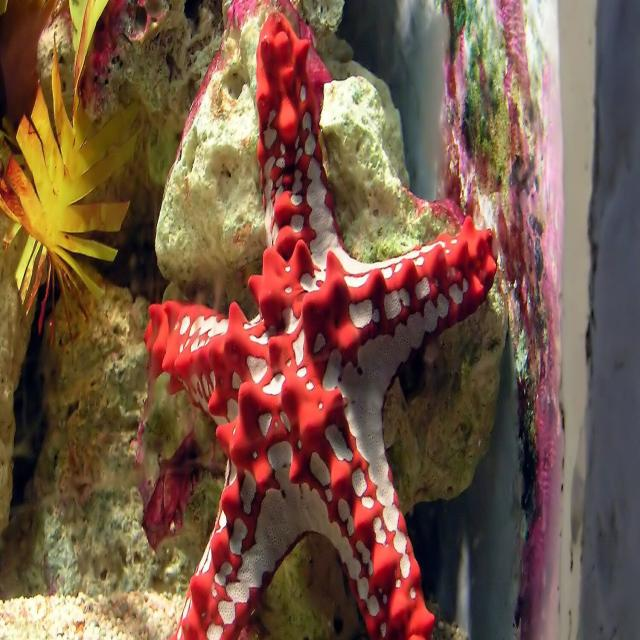starfish: (144, 14, 496, 639)
